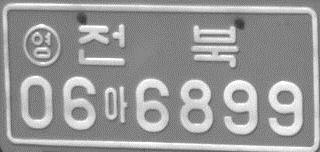0: (18, 73, 53, 130)
6: (134, 77, 169, 133), (60, 76, 96, 130)
8: (177, 78, 214, 133)
9: (221, 79, 259, 135), (267, 79, 303, 136)
아: (103, 85, 128, 124)
영: (22, 23, 63, 67)
전북_D: (76, 23, 239, 68)
